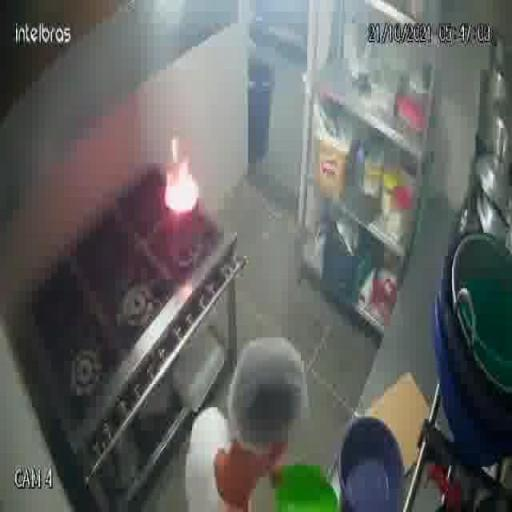smoke: (140, 112, 219, 261)
